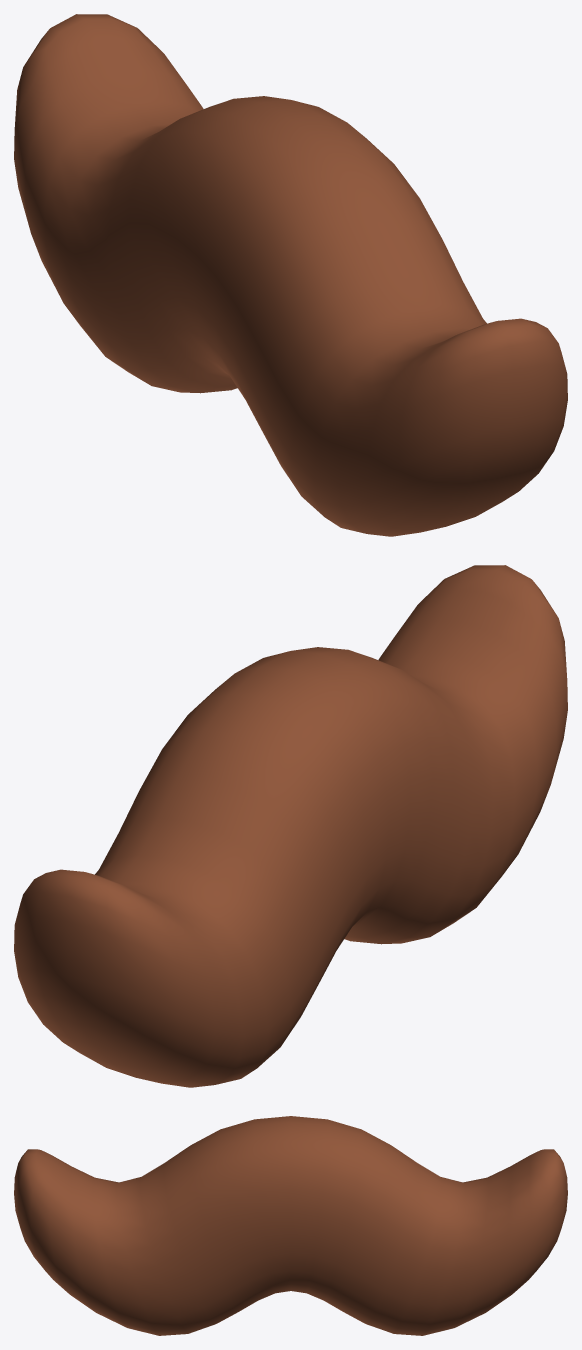
The model's file is geo_fakeMoustache.fbx.
The picture shows the model from 3 angles, top to bottom: view 1: azimuth 30°, elevation 25°; view 2: azimuth 150°, elevation 25°; view 3: azimuth 270°, elevation 25°; orthographic projection. The views are drawn at different scales.
Parts seen in each view (by area): view 1: moustache; view 2: moustache; view 3: moustache.
Part boxes in pixels (x1,y1,x2,y2): moustache: (14, 14, 567, 536); moustache: (14, 565, 567, 1087); moustache: (14, 1116, 567, 1335).
Bounding box in the file's own units: 80.86 × 131 × 319.
